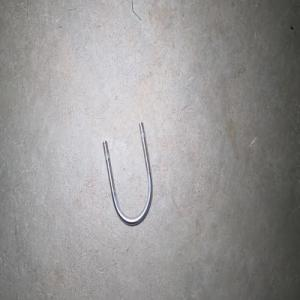ClampPart: (102, 120, 153, 227)
